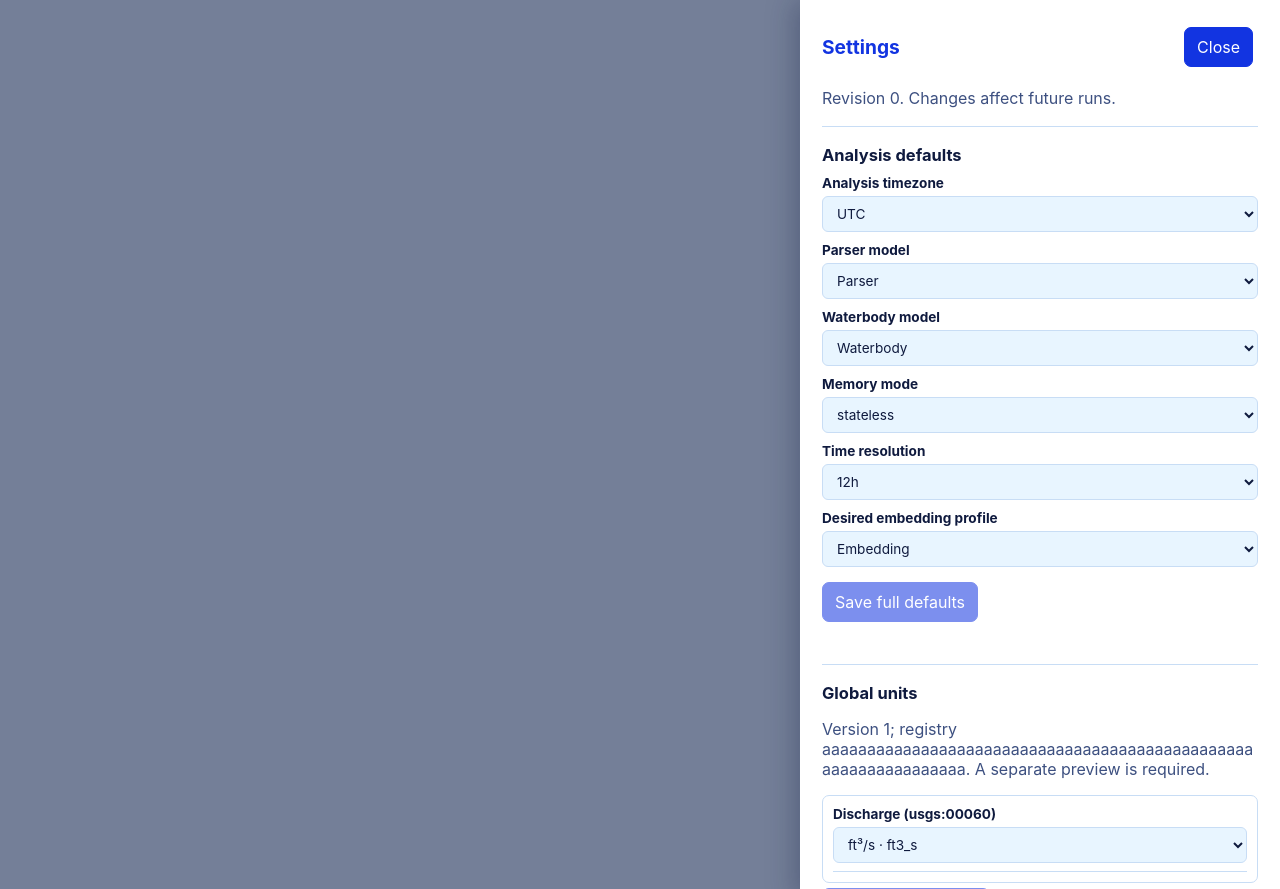
Test: ignores an initial settings GET that arrives after a successful save
The width and height of the screenshot is (1280, 889).
Select "America/Denver" in the dropdown labelled "Analysis timezone": (1040, 214) [822,196,1258,232]
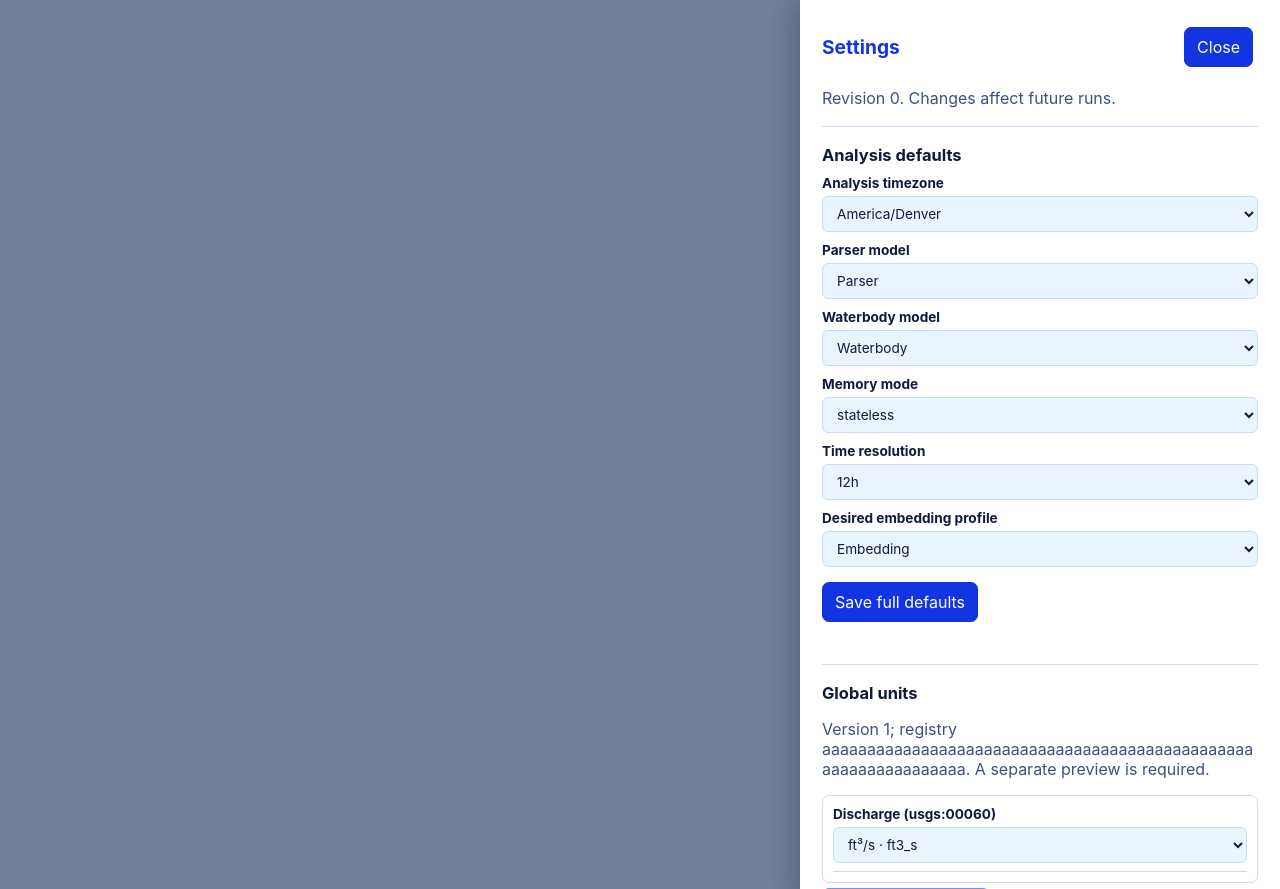
Click the button "Save full defaults": (900, 602) [822,582,978,622]
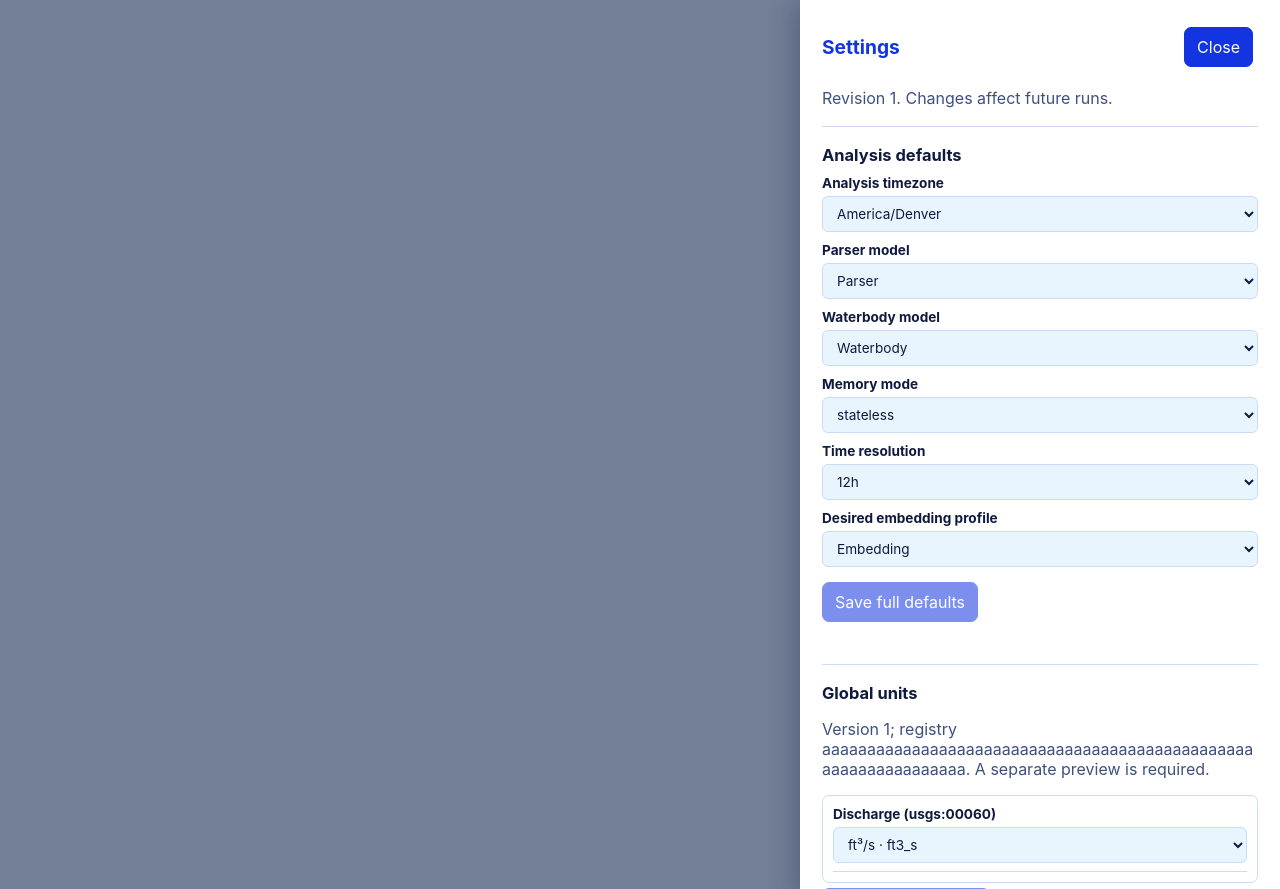
expect the text "Revision 1. Changes affect future runs." is shown: met, box [822,88,1113,108]
